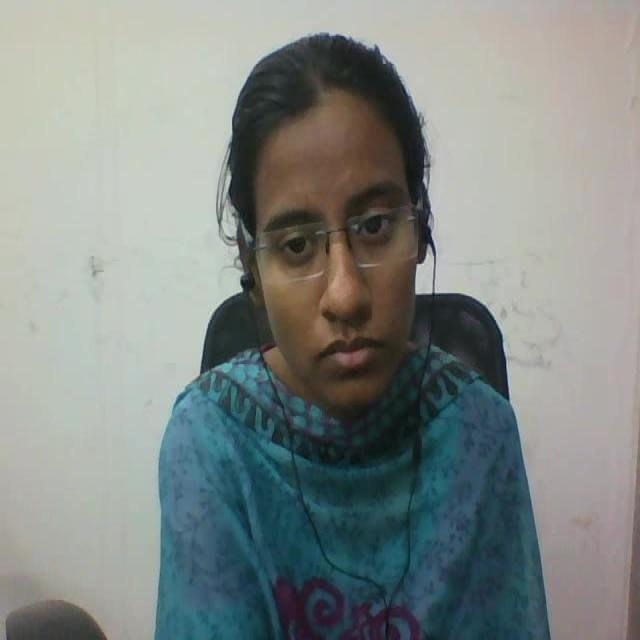Engaged: (217, 11, 469, 438)
